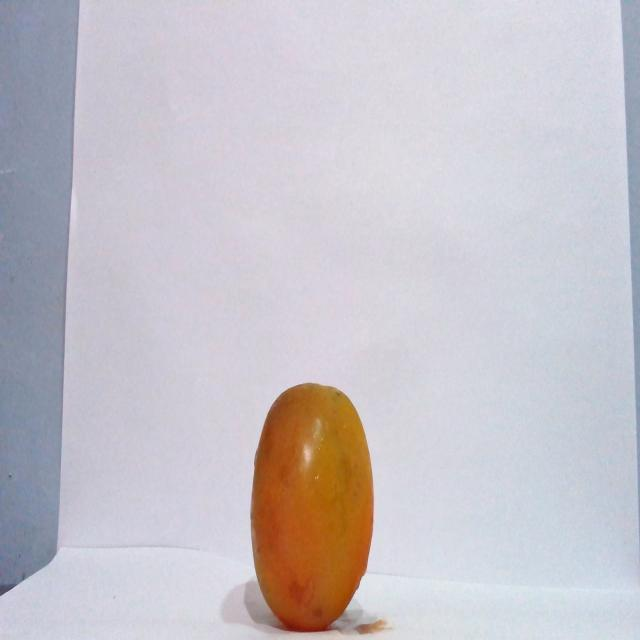Red: (248, 381, 375, 631)
